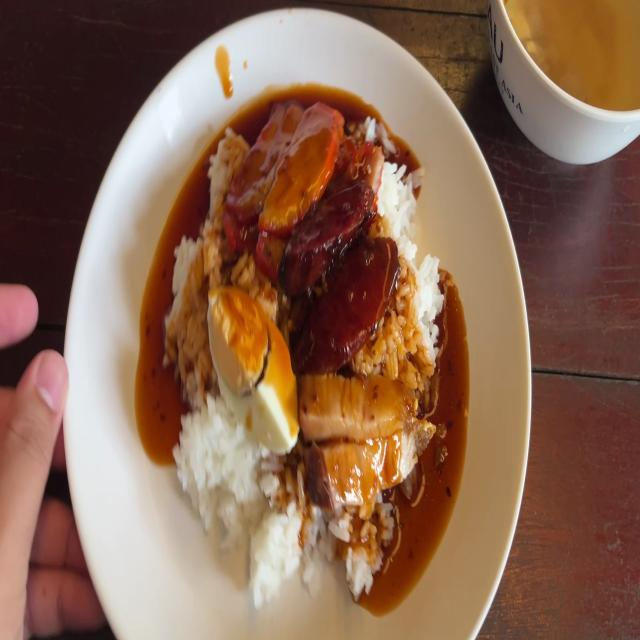01boiled_egg: (213, 292, 295, 442)
01chainese_sausage: (288, 186, 400, 360)
01crispy_pork: (299, 371, 439, 502)
01red_pork: (229, 102, 348, 241)
01red_pork_and_crispy_pork: (162, 112, 450, 592)
01rice: (162, 403, 248, 522), (245, 481, 316, 592), (165, 230, 210, 396)
